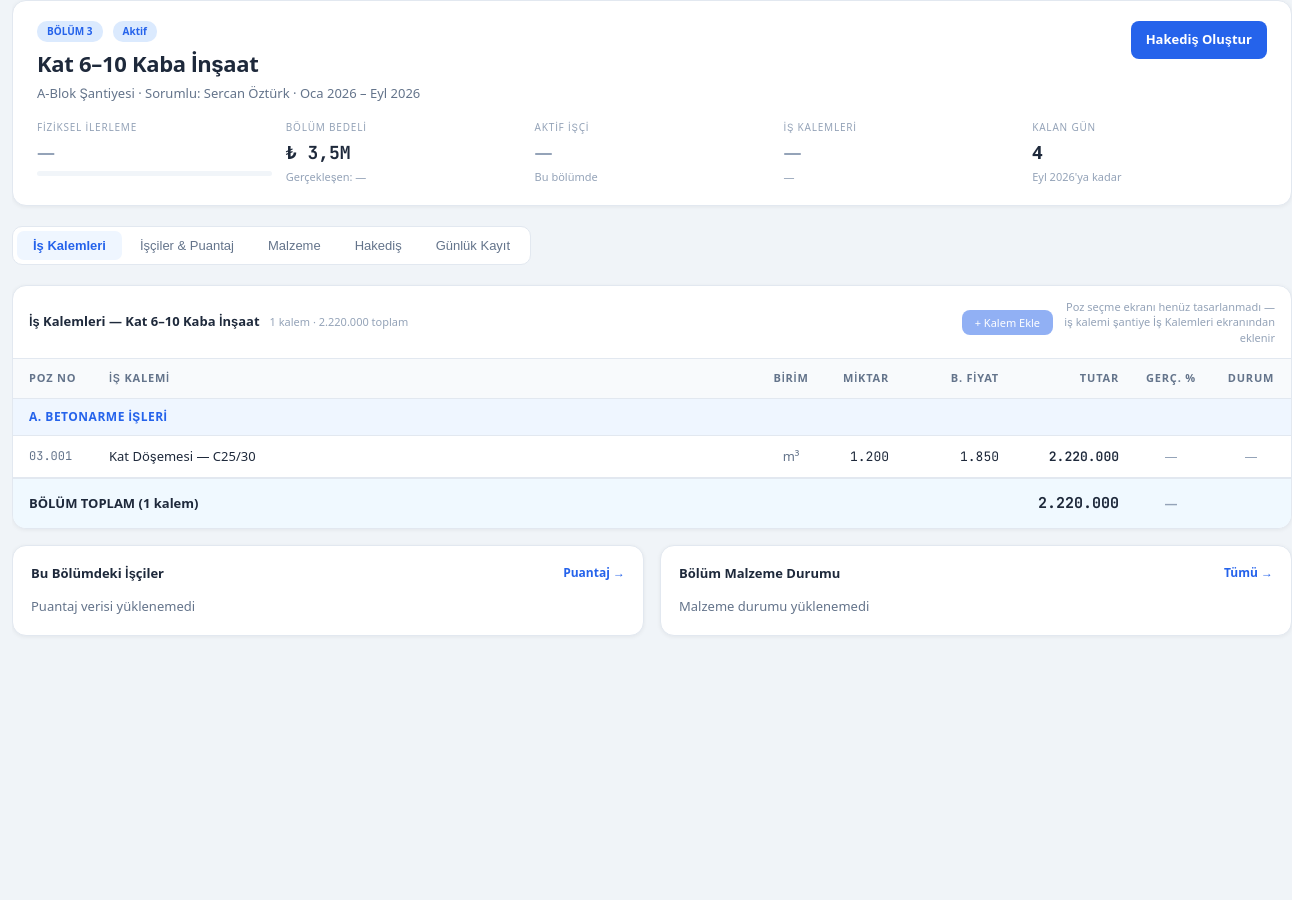
SectionDetailView — İşçiler & Puantaj sekmesi (F-BLMPUAN) › hata sessizce boş matrise DÜŞMEZ
Click the tab "İşçiler & Puantaj" at (187, 246), box [124, 231, 250, 260]
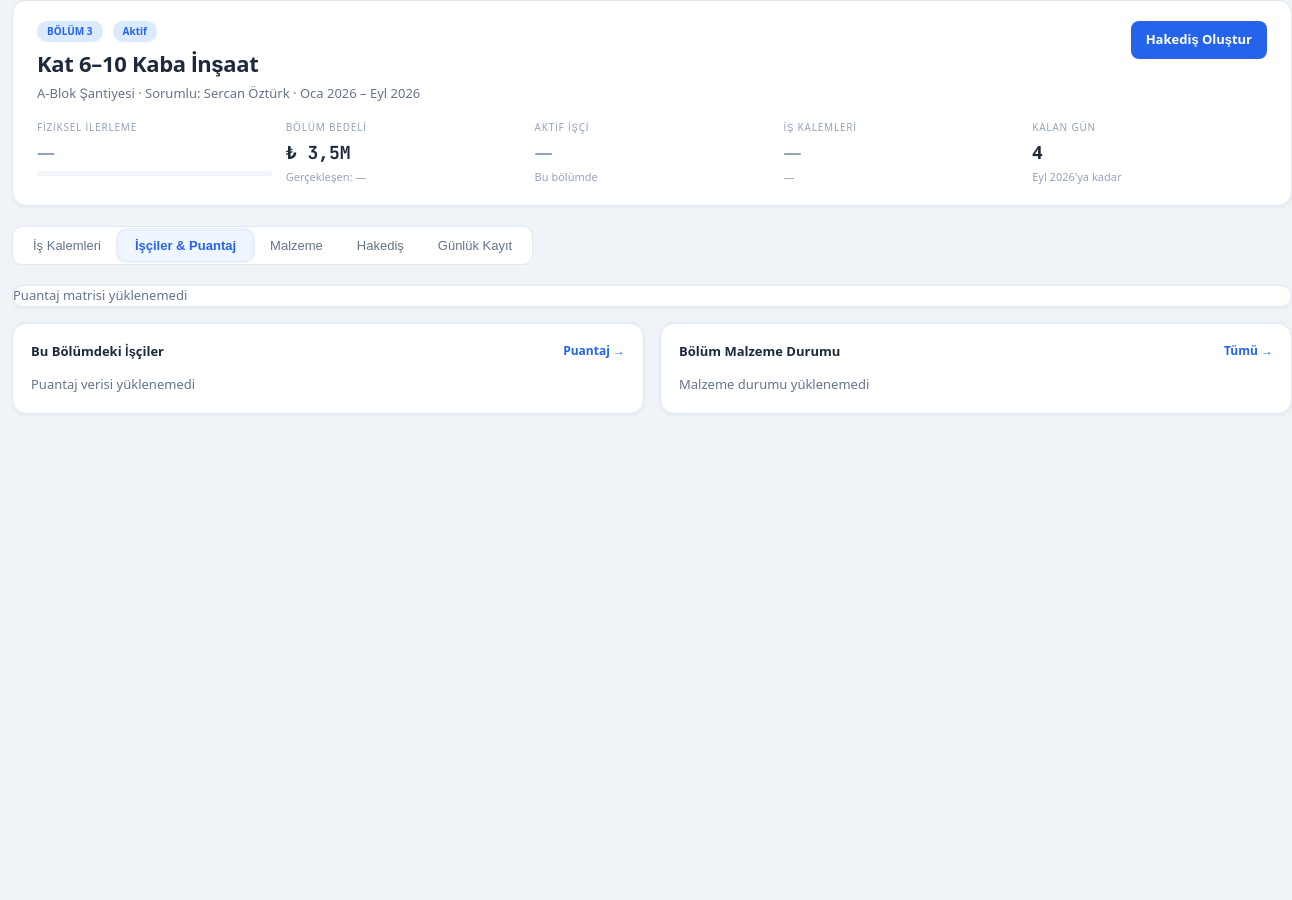
Now the text "Puantaj matrisi yüklenemedi" is shown, box [13, 286, 187, 304]
